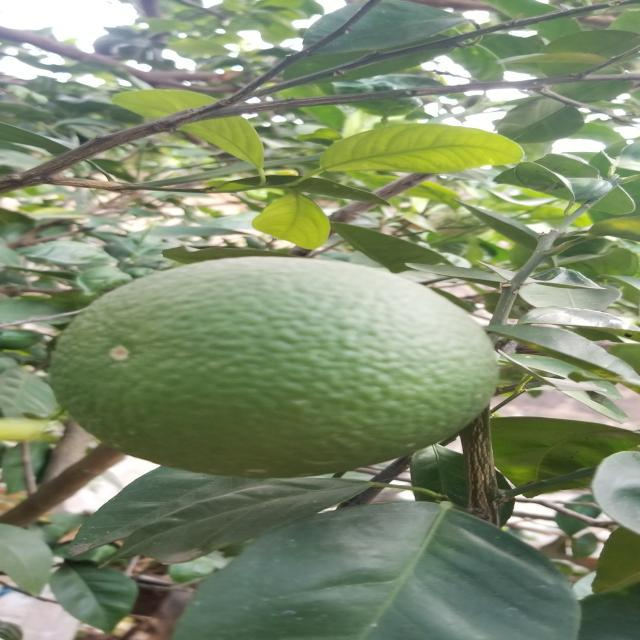Unripe: (46, 249, 503, 483)
